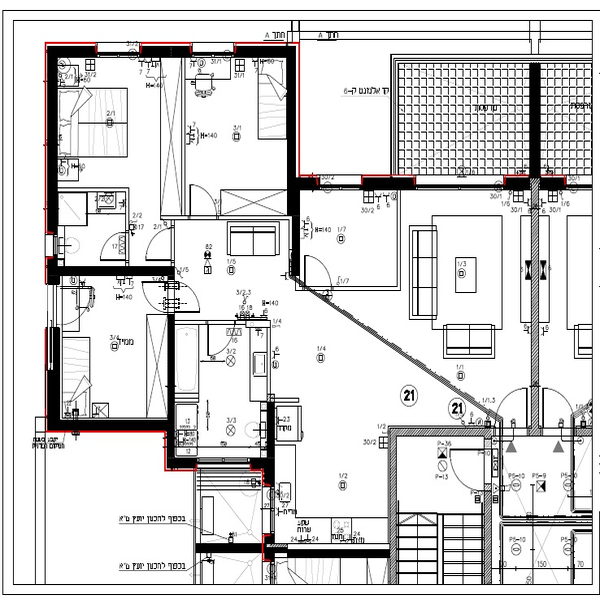door: (444, 443, 502, 492), (542, 384, 578, 442), (50, 285, 99, 327), (496, 388, 531, 436), (301, 254, 333, 296), (171, 279, 205, 318), (185, 183, 217, 221), (145, 226, 177, 262), (138, 280, 176, 307), (100, 233, 132, 261)
room: (44, 36, 180, 274), (41, 262, 182, 431), (165, 314, 277, 474), (386, 428, 493, 588), (279, 174, 405, 289)
wall: (284, 50, 302, 216), (46, 47, 61, 232), (531, 174, 540, 434), (527, 60, 546, 179), (47, 417, 175, 430), (47, 324, 62, 432), (391, 426, 401, 584), (167, 314, 177, 470), (387, 425, 497, 438), (237, 40, 298, 58), (267, 401, 280, 483), (144, 42, 195, 61), (361, 174, 413, 189), (47, 44, 97, 58)
window: (419, 174, 504, 190), (201, 454, 250, 472), (202, 454, 250, 472), (319, 174, 360, 194), (99, 40, 142, 58), (190, 43, 235, 59)
